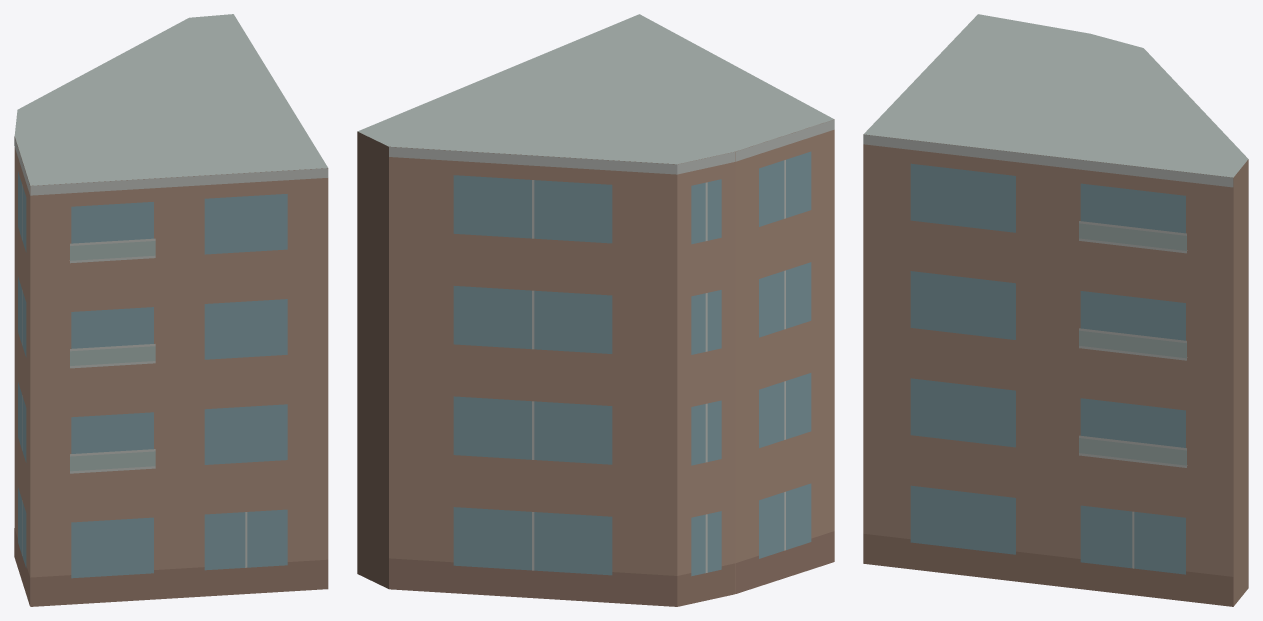
File: survey-upis-32749988.glb
3 renders of one model, left to right at view 1: azimuth 30°, elevation 25°; view 2: azimuth 150°, elevation 25°; view 3: azimuth 270°, elevation 25°, orthographic. The views are drawn at different scales.
Parts seen in each view (by area): view 1: survey-upis-32749988.tmp; view 2: survey-upis-32749988.tmp; view 3: survey-upis-32749988.tmp.
Part boxes in pixels (left/top/right/bottom): survey-upis-32749988.tmp: left=14, top=14, right=328, bottom=606; survey-upis-32749988.tmp: left=357, top=14, right=834, bottom=606; survey-upis-32749988.tmp: left=863, top=14, right=1248, bottom=606.
Bounding box in the file's own units: 8.59 × 10.5 × 8.55.
